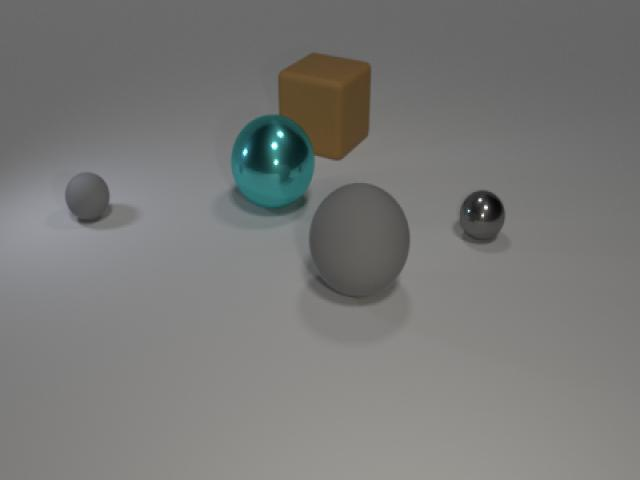round ball: (308, 179, 414, 305), (229, 106, 318, 213), (457, 184, 509, 250), (63, 166, 113, 228)
